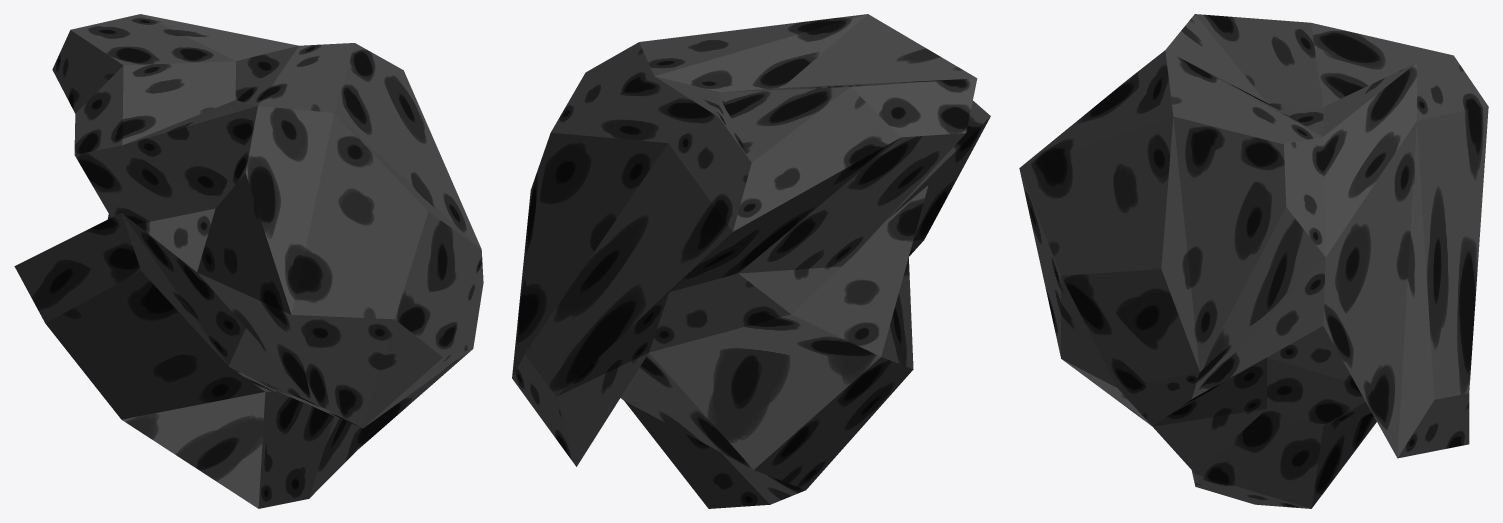
File: asteroid 4.fbx
3 views of the same model, side by side, from view 1: azimuth 30°, elevation 25°; view 2: azimuth 150°, elevation 25°; view 3: azimuth 270°, elevation 25° (orthographic). The views are drawn at different scales.
Visible parts, largest first — view 1: Platonic; view 2: Platonic; view 3: Platonic.
Boxes of the visible parts, x1,y1,x2,y2 form: Platonic: (14, 14, 483, 508); Platonic: (512, 14, 990, 508); Platonic: (1019, 14, 1488, 508).
Size of the model in its own units: 244 by 275 by 270.
1 material, 1 textured.
